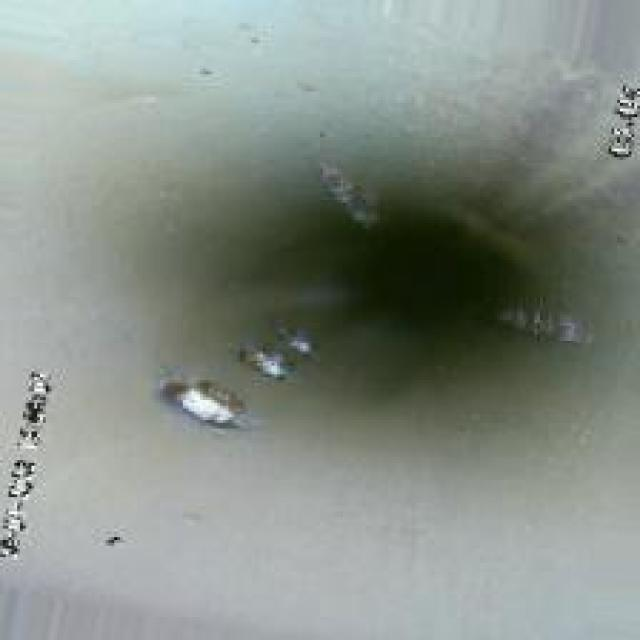ferrule: (169, 368, 237, 432), (240, 340, 286, 377), (286, 323, 334, 348)
